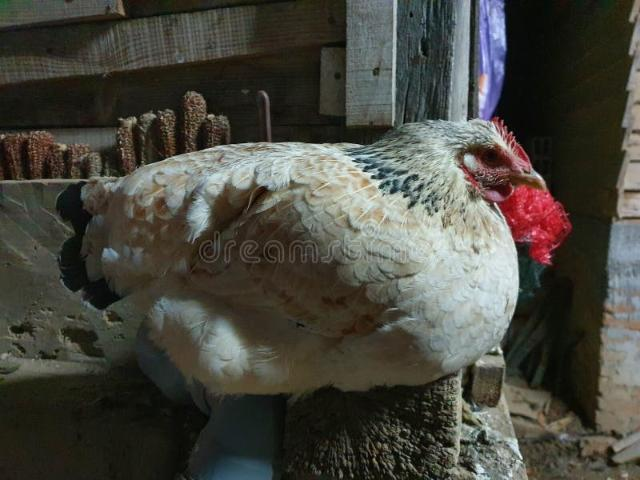Chicken: (80, 118, 546, 396)
